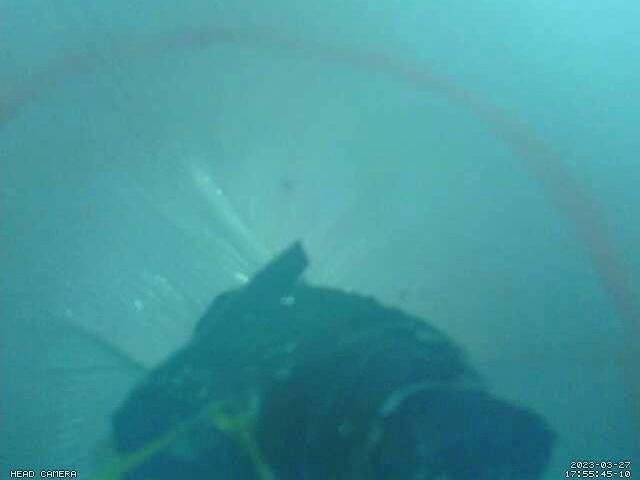head: (0, 20, 640, 320)
